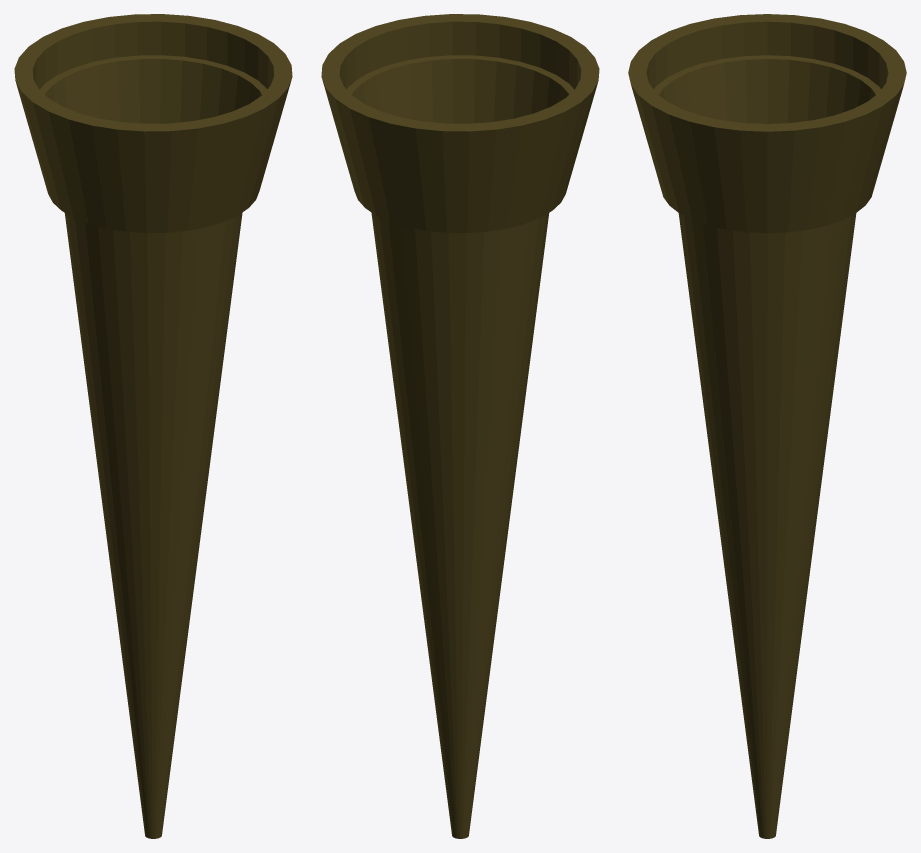
File: Orphanage_Torch.fbx
The picture shows the model from 3 angles, left to right: view 1: azimuth 30°, elevation 25°; view 2: azimuth 150°, elevation 25°; view 3: azimuth 270°, elevation 25°; orthographic projection.
Parts seen in each view (by area): view 1: Cylinder; view 2: Cylinder; view 3: Cylinder.
Boxes of the visible parts, x1,y1,x2,y2 form: Cylinder: [14, 14, 292, 838]; Cylinder: [321, 14, 599, 838]; Cylinder: [628, 14, 906, 838].
Bounding box in the file's own units: 149 × 449 × 149.
